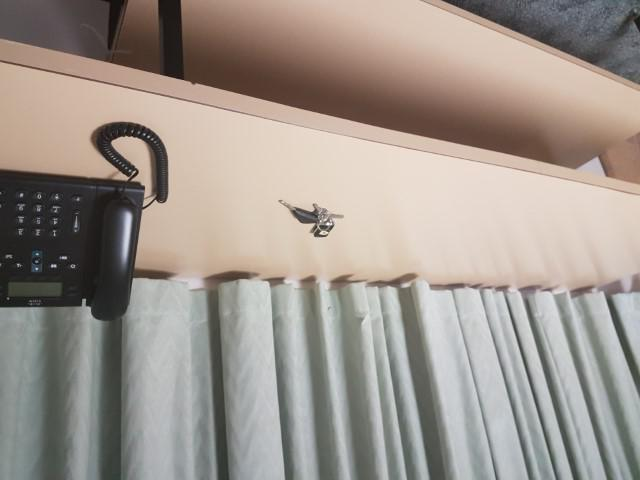key: (276, 197, 318, 226)
